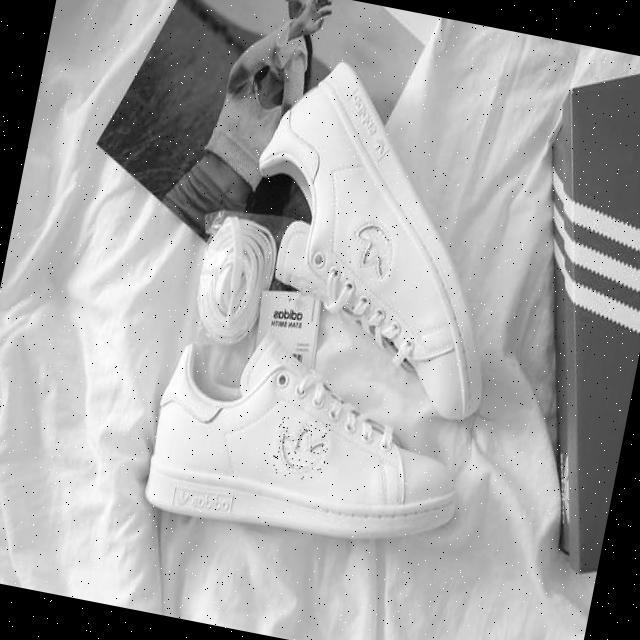Adidas: (270, 415, 333, 484), (343, 217, 404, 288)
